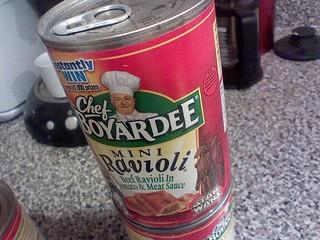metal: (37, 0, 234, 240)
